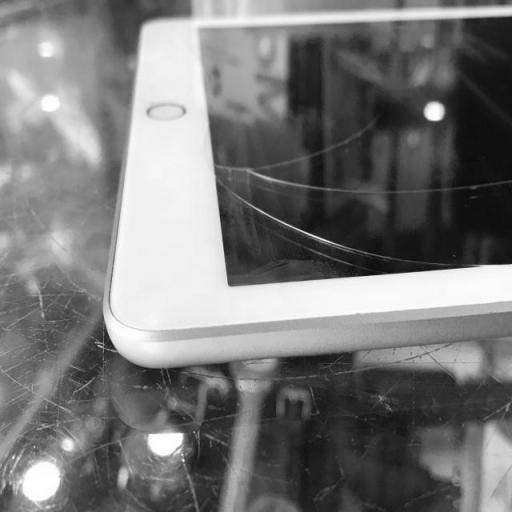phone: (109, 8, 511, 376)
